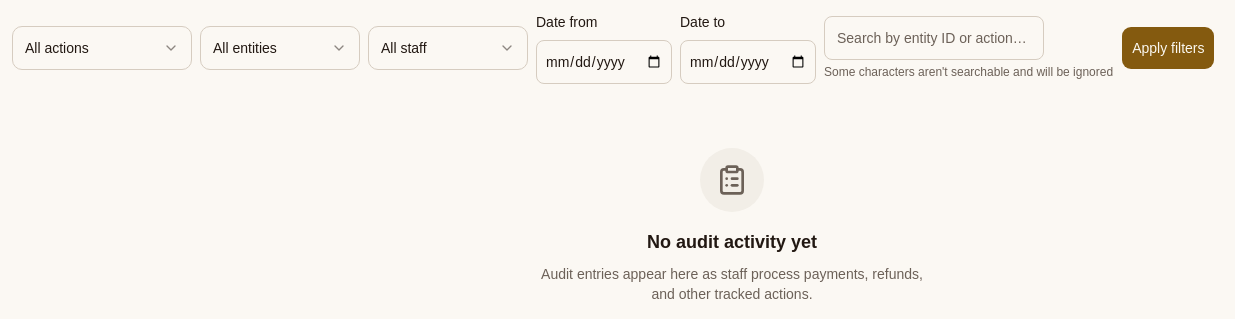
Scenario: AuditLogTable › shows "No matches" when zero rows are returned with a filter applied
expect the heading "No audit activity yet" is shown: met, box [647,228,817,256]
// Stage a search term and apply — flips to the "filtered, no matches" copy.
Type "budweiser" into the field with placeholder "Search by entity ID or action…".
click(934, 38); type("budweiser")  # box [824,16,1044,60]
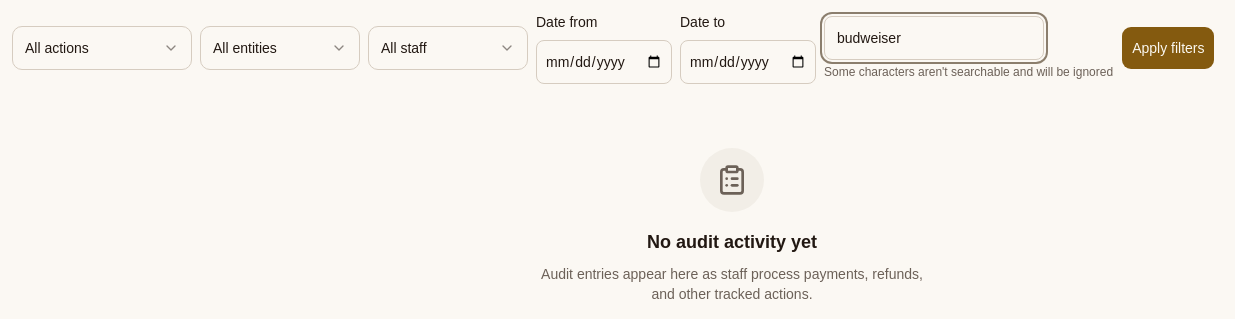
Click the button "Apply filters".
click(1168, 48)  # box [1121,26,1216,70]
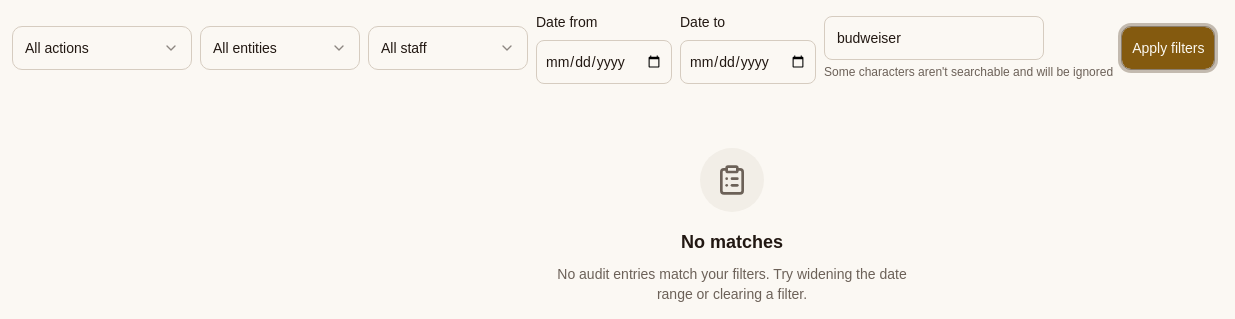
expect the heading "No matches" is shown: met, box [681,228,783,256]
